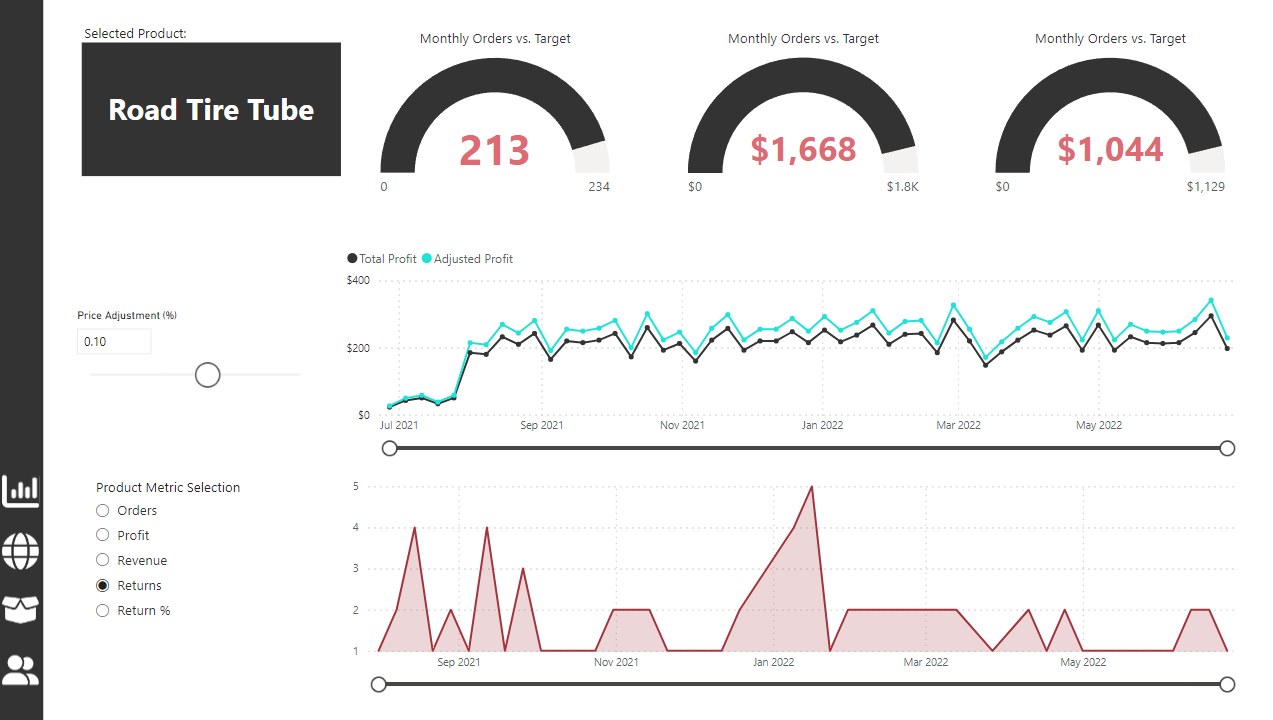

The page's visual inventory and layout, read from the dashboard file:
{"tool":"powerbi","page":{"name":"Product Detail","canvas":[1280,720],"ordinal":2},"visuals":[{"type":"shape","box":[0,0,45.2,720.2],"z":0},{"type":"actionButton","box":[0.3,469,45.2,45.2],"z":0,"group":"g1"},{"type":"gauge","title":"Monthly Orders vs. Target","fields":{"Y":["Measures Table.Total Orders"],"MaxValue":["Measures Table.order Target"]},"box":[377.9,29.3,239.7,183.4],"z":1000},{"type":"actionButton","box":[0.3,588.1,45.2,45],"z":1000,"group":"g1"},{"type":"gauge","title":"Monthly Orders vs. Target","fields":{"Y":["Measures Table.Total Revenue"],"MaxValue":["Measures Table.Revenue Target"]},"box":[684.7,29.3,240.9,183.4],"z":2000},{"type":"actionButton","box":[0.3,647.5,45.2,45],"z":2000,"group":"g1"},{"type":"gauge","title":"Monthly Orders vs. Target","fields":{"Y":["Measures Table.Total Profit"],"MaxValue":["Measures Table.Profit Target"]},"box":[992.7,29.3,240,183.4],"z":3000},{"type":"actionButton","box":[0.3,528.7,45.2,45],"z":3000,"group":"g1"},{"type":"lineChart","title":"Profit Trending","fields":{"Category":["Calendar Lookup.Date Hierarchy.Start of Year","Calendar Lookup.Date Hierarchy.Start of Month","Calendar Lookup.Date Hierarchy.Start of Week","Calendar Lookup.Date Hierarchy.Date"],"Y":["Measures Table.Total Profit","Measures Table.Adjusted Profit"]},"box":[343.6,238.5,914.7,220.1],"z":4000},{"type":"areaChart","title":"Returns Trending","fields":{"Y":["Measures Table.Total Returns"],"Category":["Calendar Lookup.Date Hierarchy.Start of Year","Calendar Lookup.Date Hierarchy.Start of Month","Calendar Lookup.Date Hierarchy.Start of Week","Calendar Lookup.Date Hierarchy.Date"]},"box":[343.6,472,914.7,222.6],"z":5000},{"type":"card","fields":{"Values":["Min(Product Lookup.ProductName)"]},"box":[84.2,42.6,259.2,133.3],"z":6000},{"type":"textbox","box":[80.7,18.3,145.5,40.4],"z":7000},{"type":"group","id":"g1","title":"Nav Buttons","box":[0.3,469,45.2,223.5],"z":8000},{"type":"slicer","fields":{"Values":["Price Adjustment (%).Price Adjustment (%)"]},"box":[66.8,304.4,258.8,110.9],"z":9000},{"type":"slicer","fields":{"Values":["Product Metric Selection.Product Metric Selection"]},"box":[84.4,472,242.1,176.1],"z":10000}]}

Visuals, with their boxes on the page's 1280x720 design canvas (x1, y1, x2, y2). These are canvas units, not pixel positions in the 1273x720 screenshot, which may show the page scaled, cropped or inside an application window:
shape: (left=0, top=0, right=45, bottom=720)
actionButton: (left=0, top=469, right=46, bottom=514)
"Monthly Orders vs. Target" gauge: (left=378, top=29, right=618, bottom=213)
actionButton: (left=0, top=588, right=46, bottom=633)
"Monthly Orders vs. Target" gauge: (left=685, top=29, right=926, bottom=213)
actionButton: (left=0, top=648, right=46, bottom=692)
"Monthly Orders vs. Target" gauge: (left=993, top=29, right=1233, bottom=213)
actionButton: (left=0, top=529, right=46, bottom=574)
"Profit Trending" lineChart: (left=344, top=238, right=1258, bottom=459)
"Returns Trending" areaChart: (left=344, top=472, right=1258, bottom=695)
card - Min(Product Lookup.ProductName): (left=84, top=43, right=343, bottom=176)
textbox: (left=81, top=18, right=226, bottom=59)
"Nav Buttons" group: (left=0, top=469, right=46, bottom=692)
slicer - Price Adjustment (%).Price Adjustment (%): (left=67, top=304, right=326, bottom=415)
slicer - Product Metric Selection.Product Metric Selection: (left=84, top=472, right=326, bottom=648)
